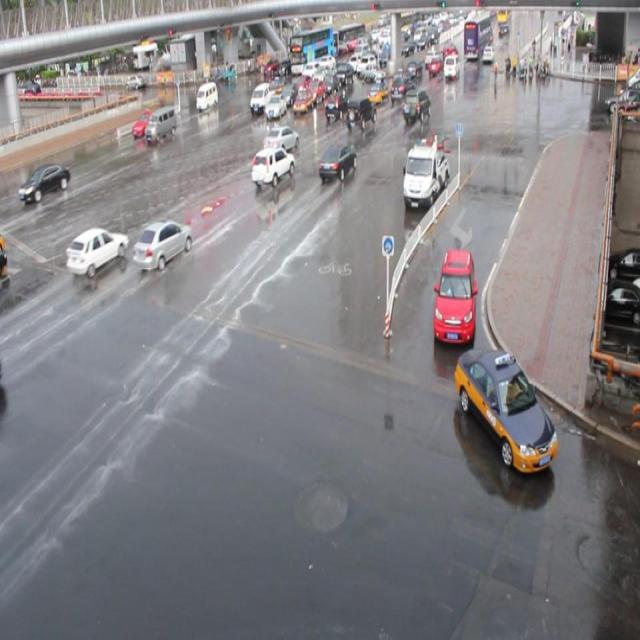bus: (401, 134, 448, 203)
car: (454, 347, 557, 470), (432, 248, 476, 341), (132, 218, 193, 270), (66, 226, 129, 276), (18, 162, 72, 203), (251, 147, 295, 187), (318, 142, 357, 180), (344, 96, 376, 130), (400, 88, 430, 122), (263, 126, 299, 153), (322, 91, 350, 120), (389, 73, 414, 101), (132, 109, 156, 136), (366, 80, 390, 104), (264, 90, 286, 115), (291, 85, 312, 111), (266, 76, 289, 99), (305, 75, 324, 98), (279, 79, 298, 101), (292, 70, 310, 91), (0, 352, 4, 390)
truck: (144, 106, 177, 142), (250, 82, 272, 114), (196, 82, 218, 110)
